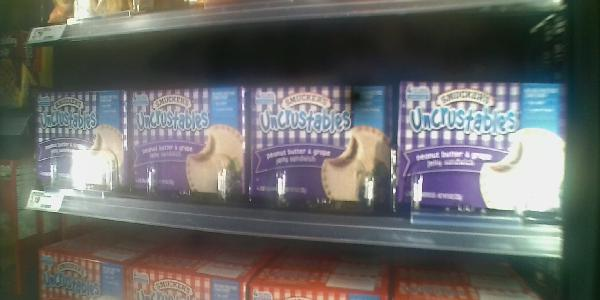icecream: (395, 74, 569, 223), (249, 76, 397, 235), (126, 87, 252, 211), (31, 81, 125, 209)
